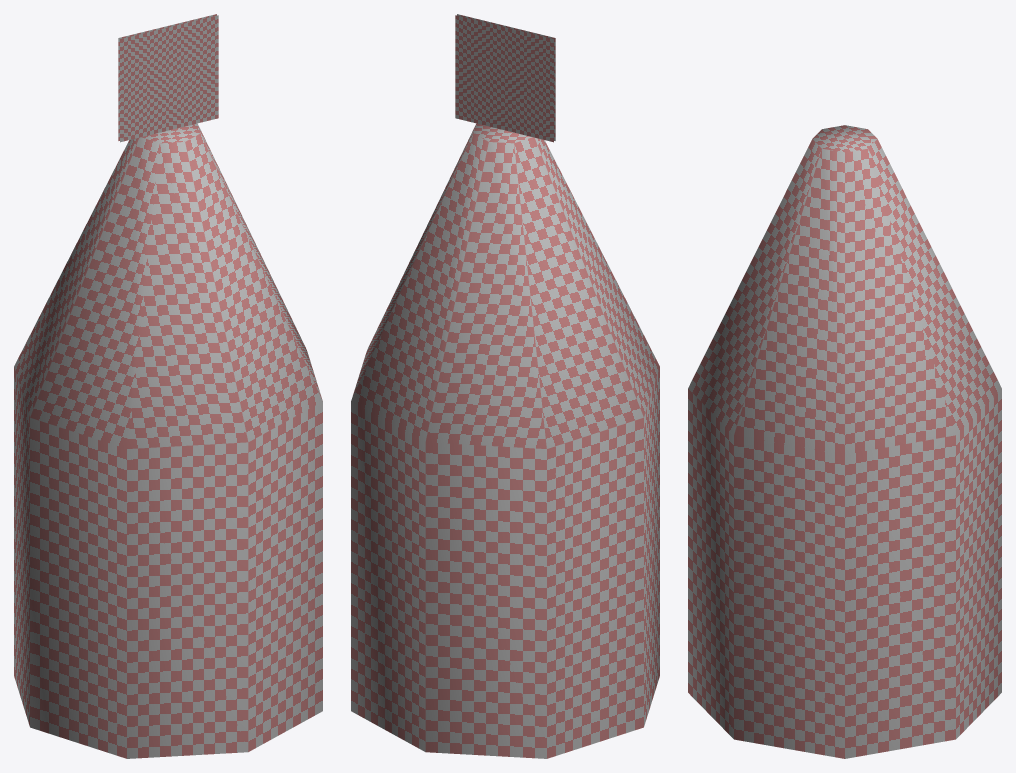
Rendered from lantern.glb.
The picture shows the model from 3 angles, left to right: view 1: azimuth 30°, elevation 25°; view 2: azimuth 150°, elevation 25°; view 3: azimuth 270°, elevation 25°; orthographic projection.
Parts seen in each view (by area): view 1: Cylinder.001; view 2: Cylinder.001; view 3: Cylinder.001.
Part boxes in pixels (left/top/right/bottom): Cylinder.001: left=14, top=14, right=322, bottom=758; Cylinder.001: left=351, top=14, right=659, bottom=758; Cylinder.001: left=688, top=125, right=1001, bottom=758.
Size of the model in its own units: 0.2 by 0.4605 by 0.2.
Materials: 1 (1 with a texture image).
